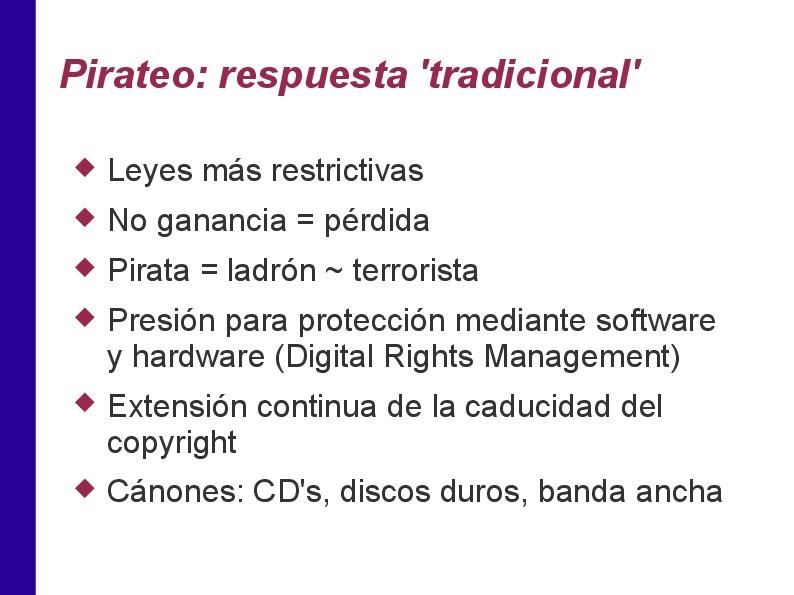paragraph: (59, 141, 763, 537)
title: (52, 45, 661, 111)
